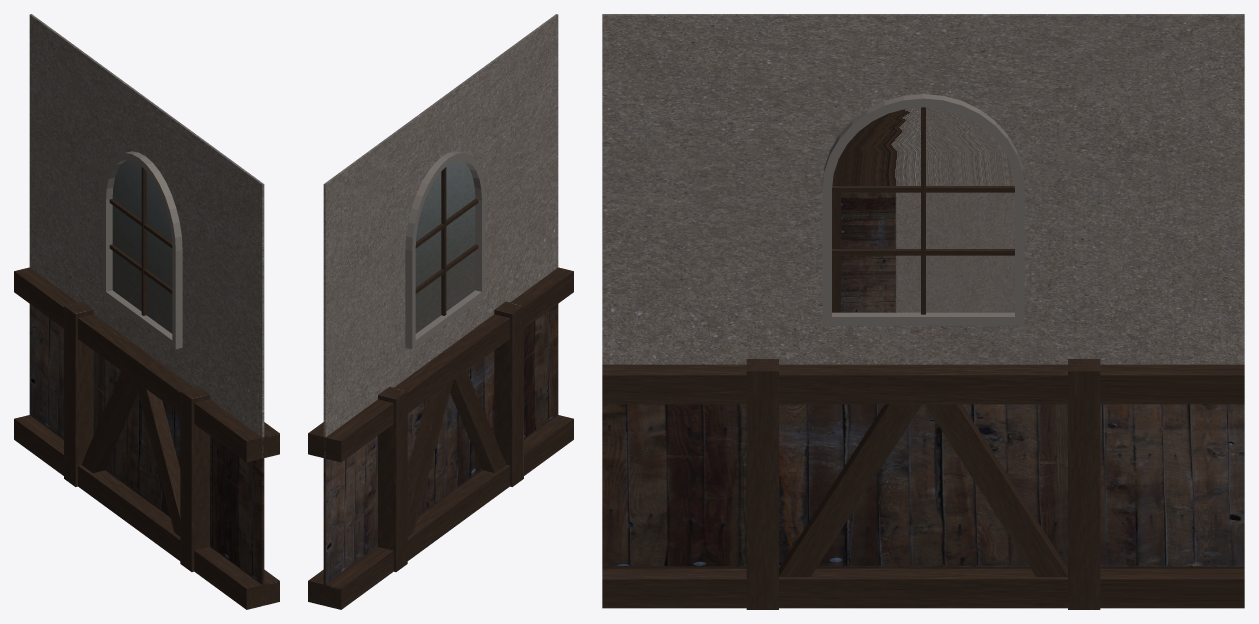
The model's file is OutdoorArchitecture_BasicWall03_Window01_NoEdges_BShortt.fbx.
3 views of the same model, side by side, from view 1: azimuth 30°, elevation 25°; view 2: azimuth 150°, elevation 25°; view 3: azimuth 270°, elevation 25° (orthographic). The views are drawn at different scales.
Visible parts, largest first — view 1: OutdoorArchitecture_BasicWall03_Window01_NoEdges_BShortt; view 2: OutdoorArchitecture_BasicWall03_Window01_NoEdges_BShortt; view 3: OutdoorArchitecture_BasicWall03_Window01_NoEdges_BShortt.
Part boxes in pixels (<box>): OutdoorArchitecture_BasicWall03_Window01_NoEdges_BShortt: <box>14,14,279,609</box>; OutdoorArchitecture_BasicWall03_Window01_NoEdges_BShortt: <box>308,14,573,609</box>; OutdoorArchitecture_BasicWall03_Window01_NoEdges_BShortt: <box>602,14,1244,609</box>.
Bounding box in the file's own units: 28.5 × 300 × 300.
